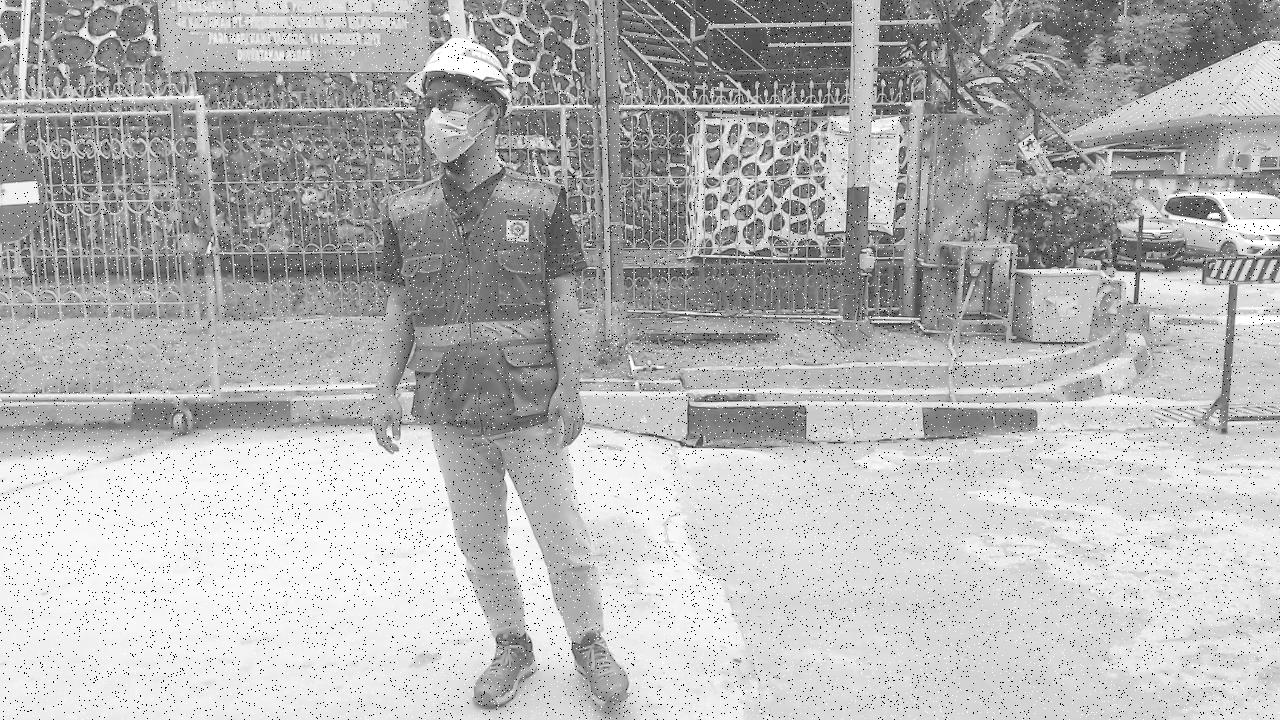helmet: (398, 35, 522, 106)
mask: (414, 112, 495, 157)
safety-shoes: (467, 624, 541, 705), (562, 634, 631, 710)
